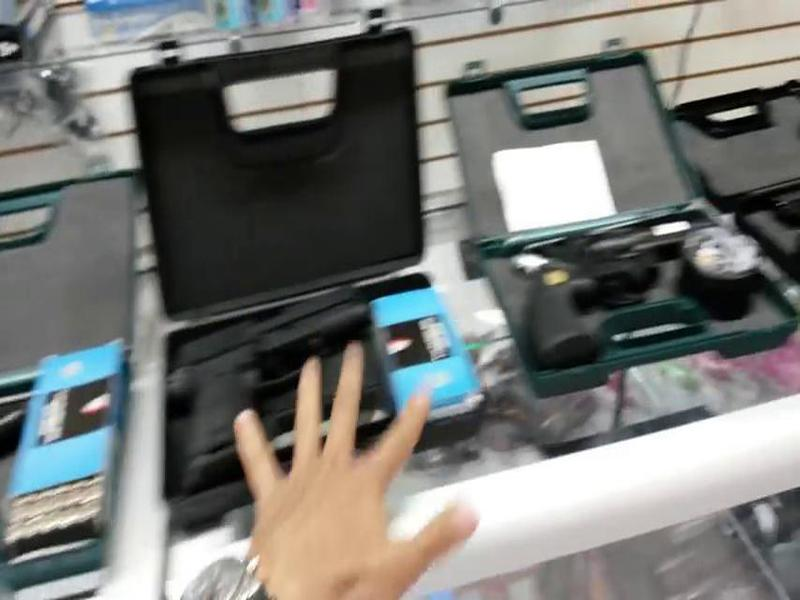Pistola: (140, 277, 402, 510)
